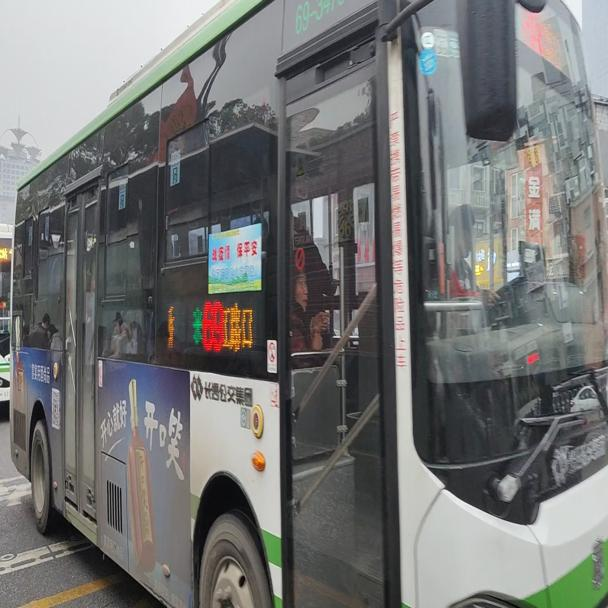screen: (200, 301, 223, 349)
